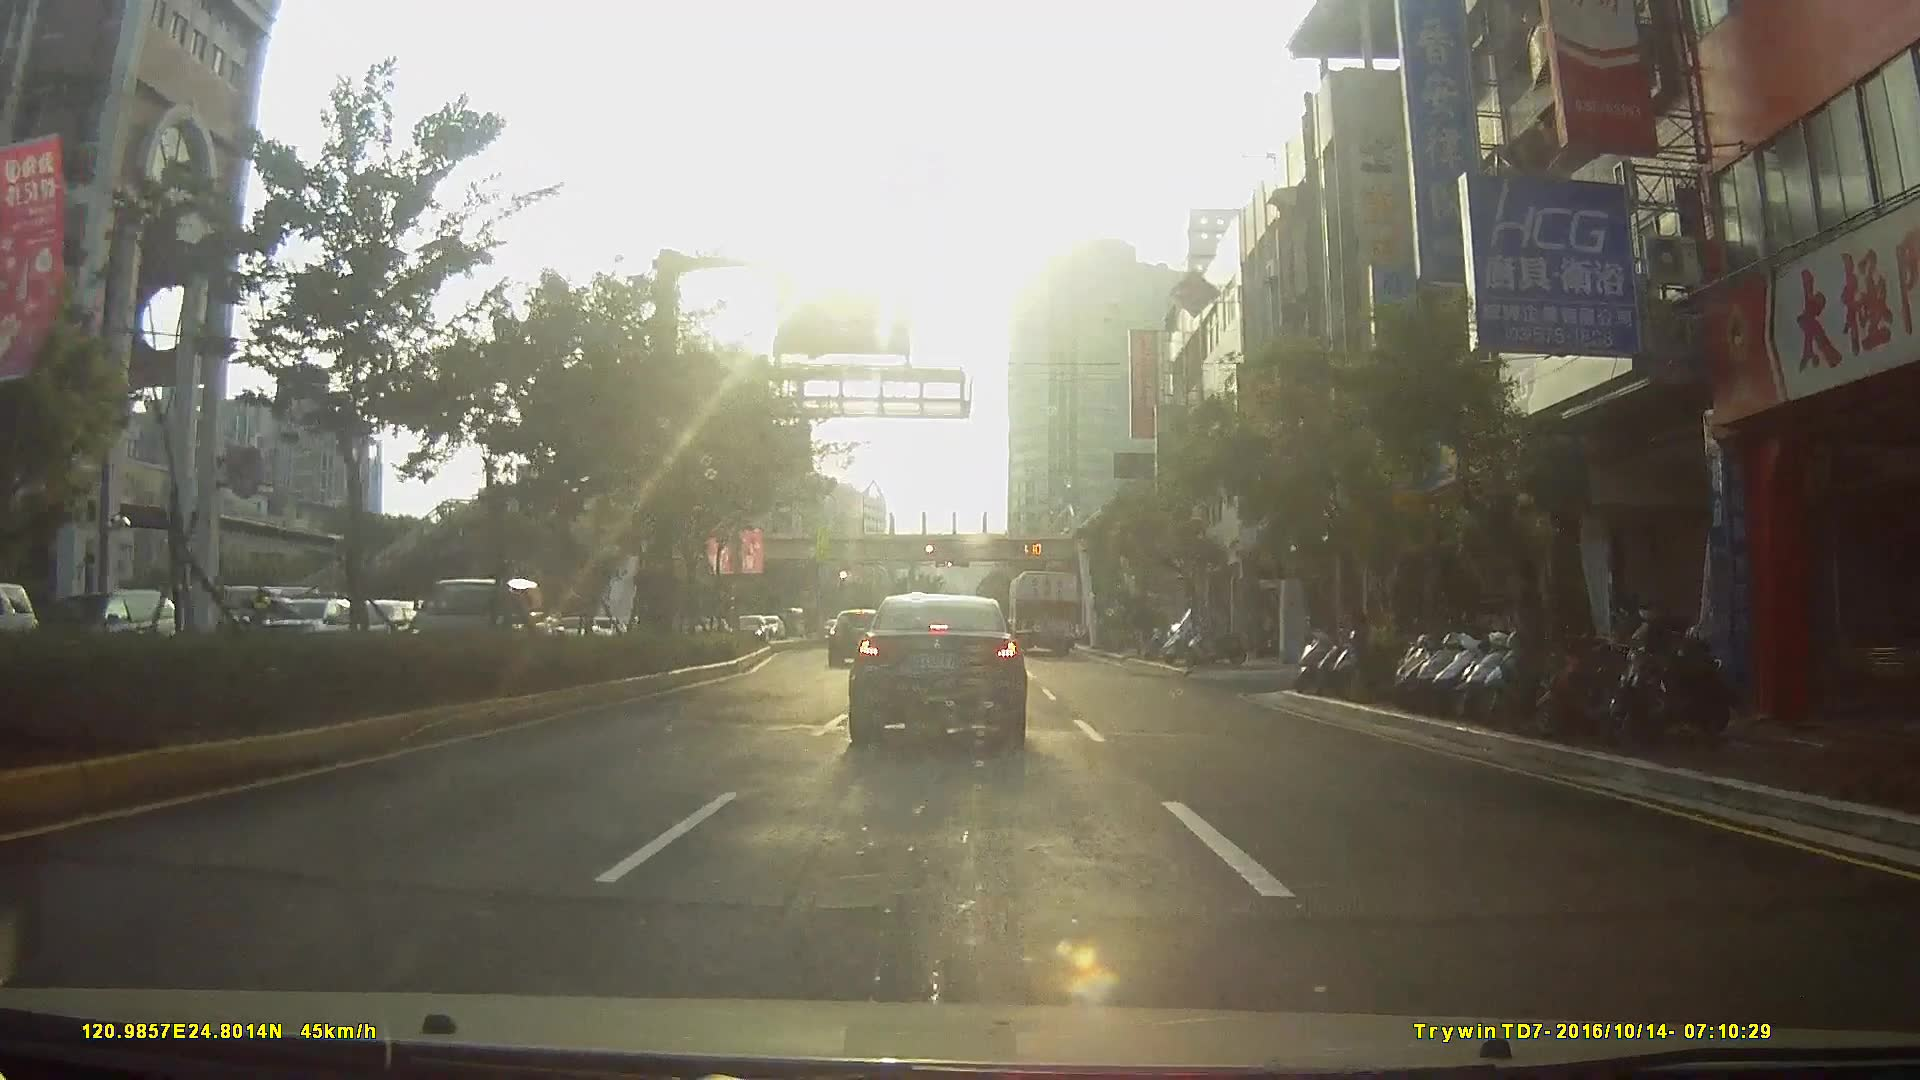vehicle: (847, 593, 1027, 756), (404, 576, 546, 665), (33, 587, 175, 665), (1004, 568, 1080, 658), (824, 607, 887, 666), (724, 615, 767, 649)
